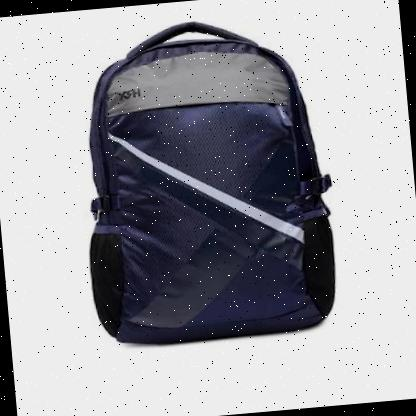bag: (70, 8, 352, 353)
